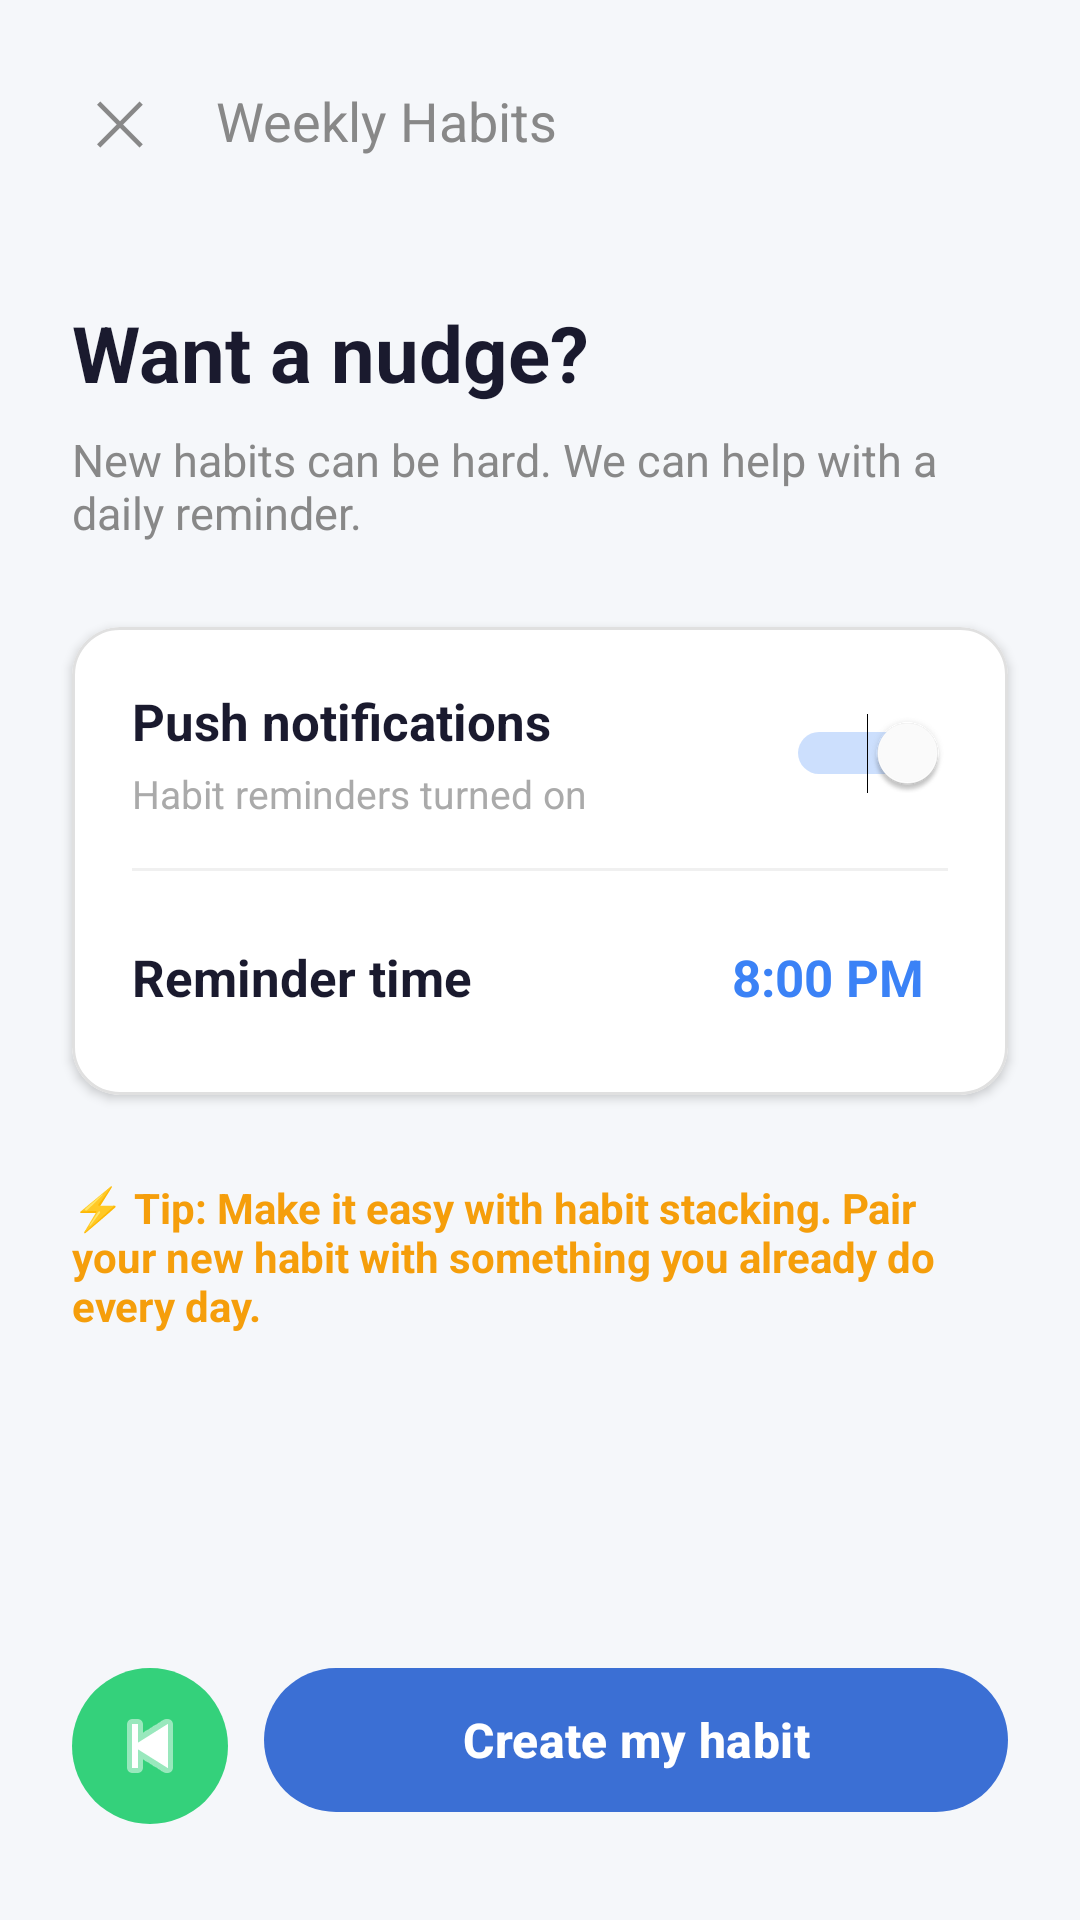

Named icons in this screenshot (1080×1920) and their bounding boxes, box(x1, y1, x2, y2):
previous: box(72, 1668, 228, 1824)
